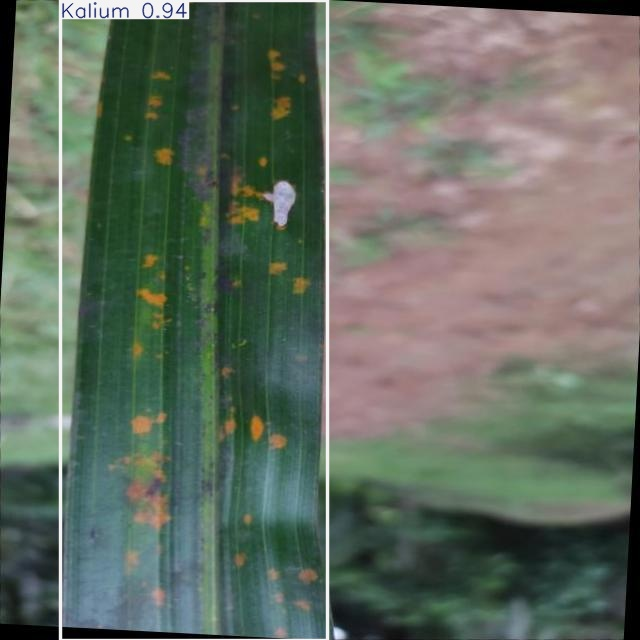Kalium: (61, 0, 327, 640)
